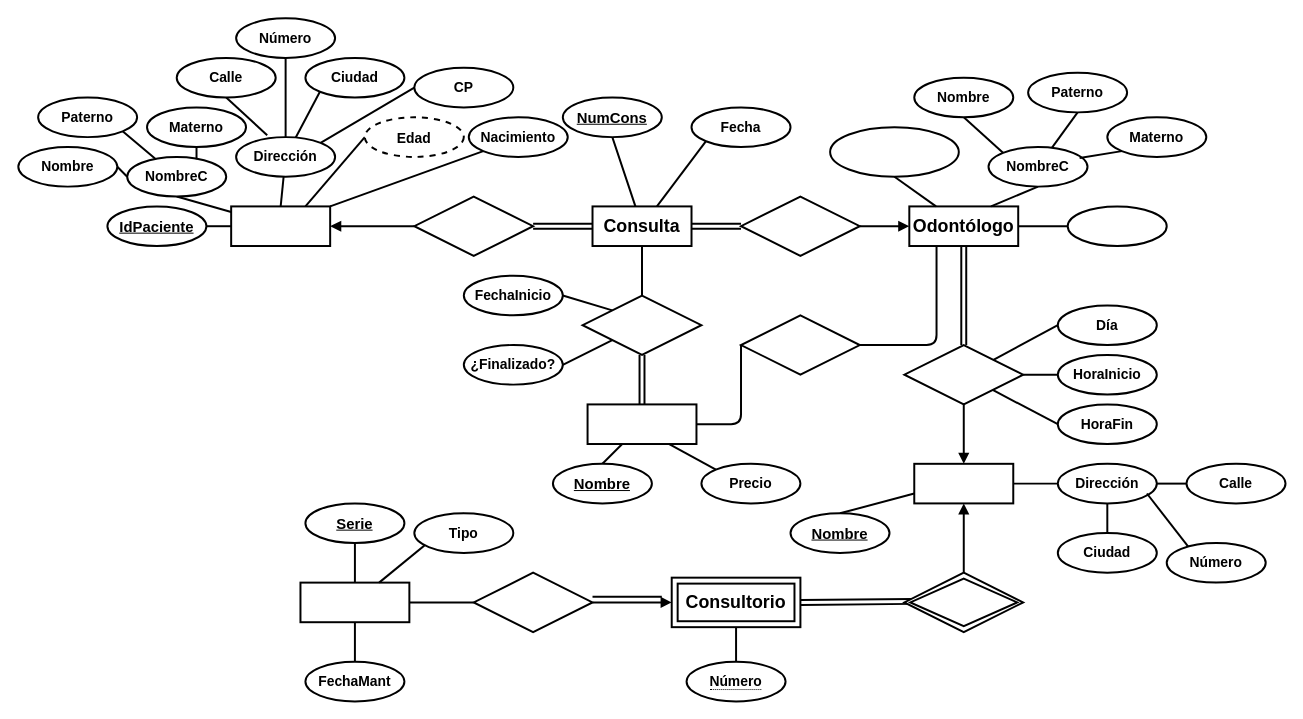
Image size: 1303x719. Some labels were removed from this diagram. Here are the shapes that lost their labels. From the top down, the box of each, then its label:
(829, 126, 959, 177): NumTrabajador
(230, 205, 331, 247): Paciente
(413, 195, 534, 256): Solicitar
(740, 195, 860, 256): Brindar
(1066, 205, 1167, 247): Especialidad
(581, 294, 702, 355): Componer
(740, 314, 860, 375): Realizar
(903, 344, 1024, 405): Trabajar
(586, 403, 697, 445): Tratamiento
(913, 462, 1014, 504): Local
(299, 581, 410, 623): Equipo
(472, 571, 593, 633): Poseer
(903, 571, 1024, 633): Tener
